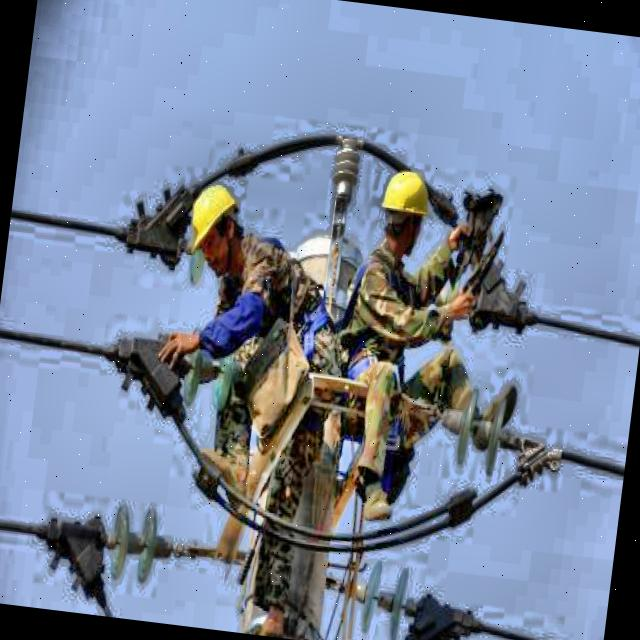helmet: (178, 176, 250, 276), (370, 158, 437, 257)
